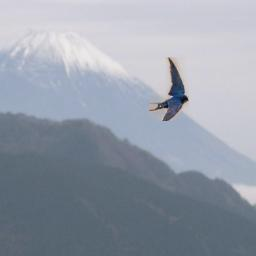Swallow: (149, 57, 189, 121)
